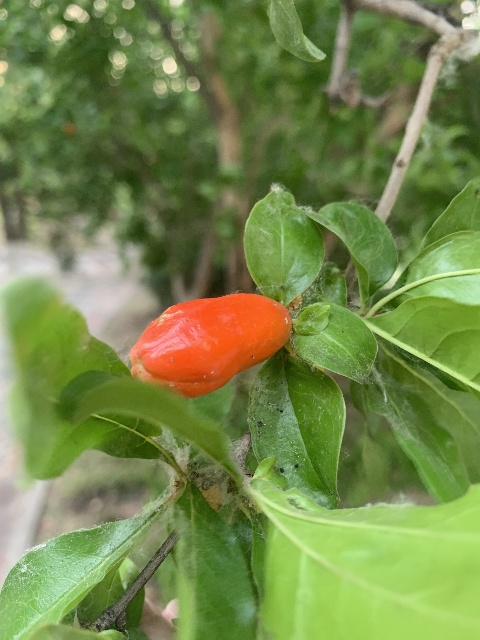bud: (128, 291, 291, 398)
